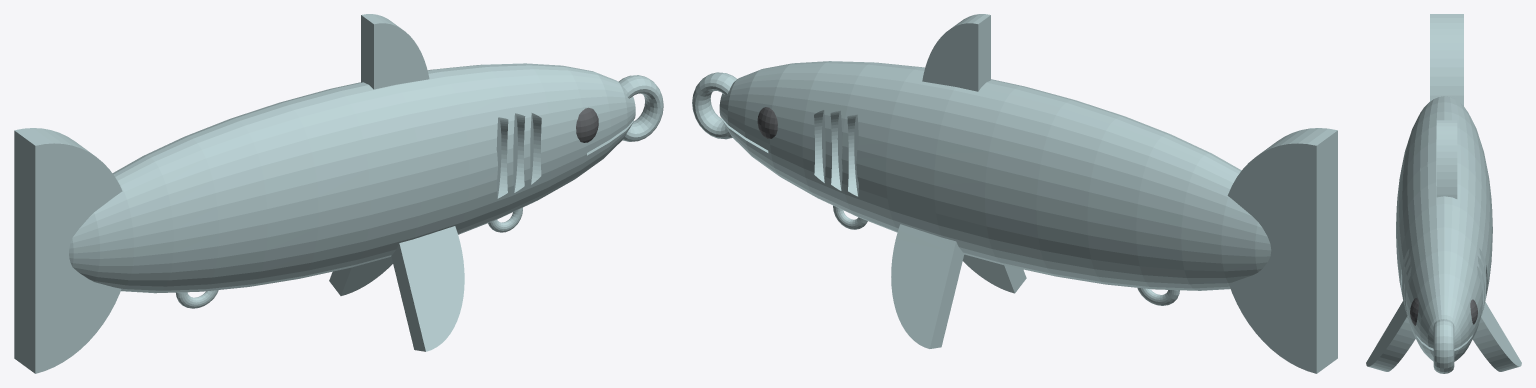
File: Copy of fish.glb
3 renders of one model, left to right at view 1: azimuth 30°, elevation 25°; view 2: azimuth 150°, elevation 25°; view 3: azimuth 270°, elevation 25°, orthographic. The views are drawn at different scales.
Visible parts, largest first — view 1: Mesh_Mesh_head_geo.001_lambert2SG.001; view 2: Mesh_Mesh_head_geo.001_lambert2SG.001; view 3: Mesh_Mesh_head_geo.001_lambert2SG.001.
Part boxes in pixels (box(x1,y1,x2,y2)): Mesh_Mesh_head_geo.001_lambert2SG.001: box(14, 14, 663, 373); Mesh_Mesh_head_geo.001_lambert2SG.001: box(692, 14, 1337, 373); Mesh_Mesh_head_geo.001_lambert2SG.001: box(1366, 14, 1521, 373).
Size of the model in its own units: 109 by 50 by 28.87.
